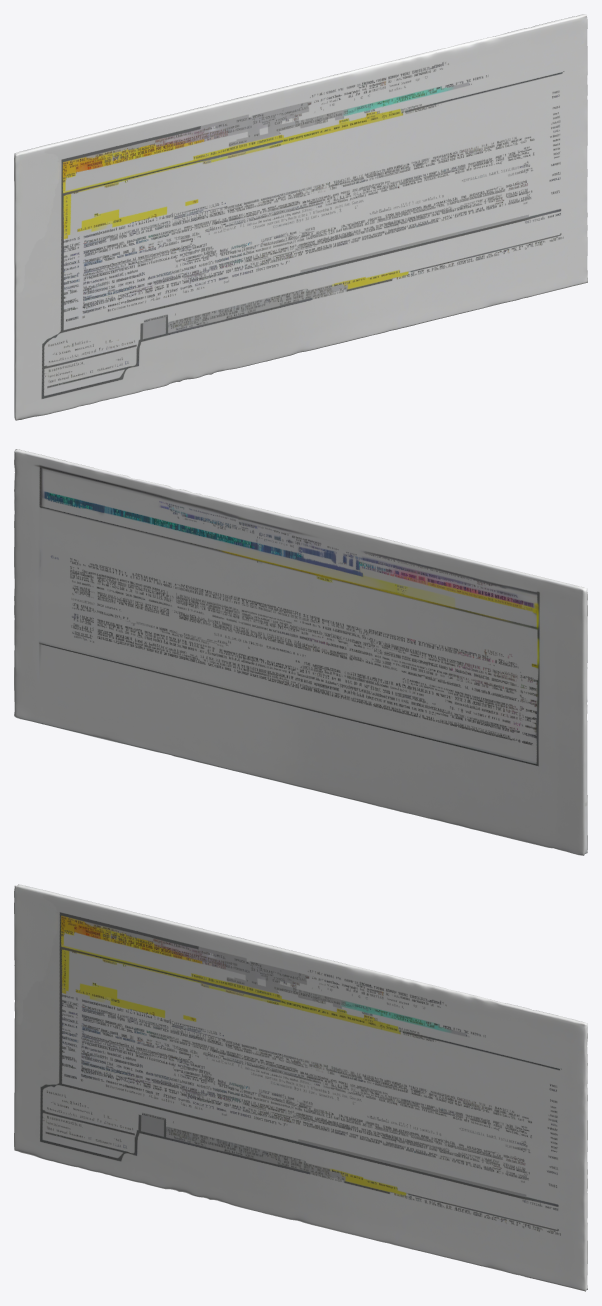
Rendered from office_shell.glb.
The picture shows the model from 3 angles, top to bottom: view 1: azimuth 30°, elevation 25°; view 2: azimuth 150°, elevation 25°; view 3: azimuth 330°, elevation 25°; orthographic projection.
Size of the model in its own units: 2.01 by 0.8999 by 0.018.
1 material, 1 textured.
